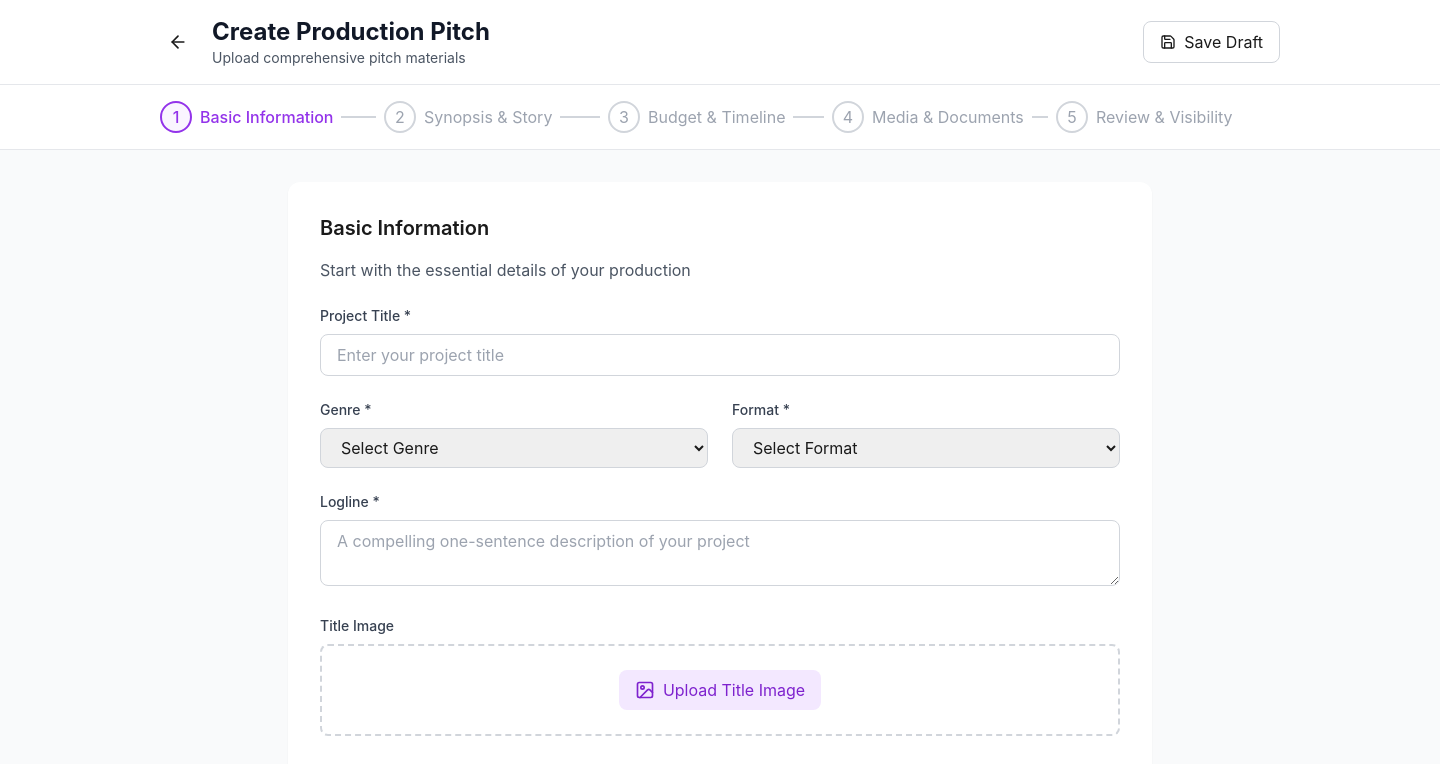
ProductionPitchCreate › Step 1: Basic Information › advances to step 2 when all Step 1 fields are filled
Type "My Great Film" into the field with placeholder "Enter your project title" at (720, 355), box x1=320 y1=334 x2=1120 y2=376
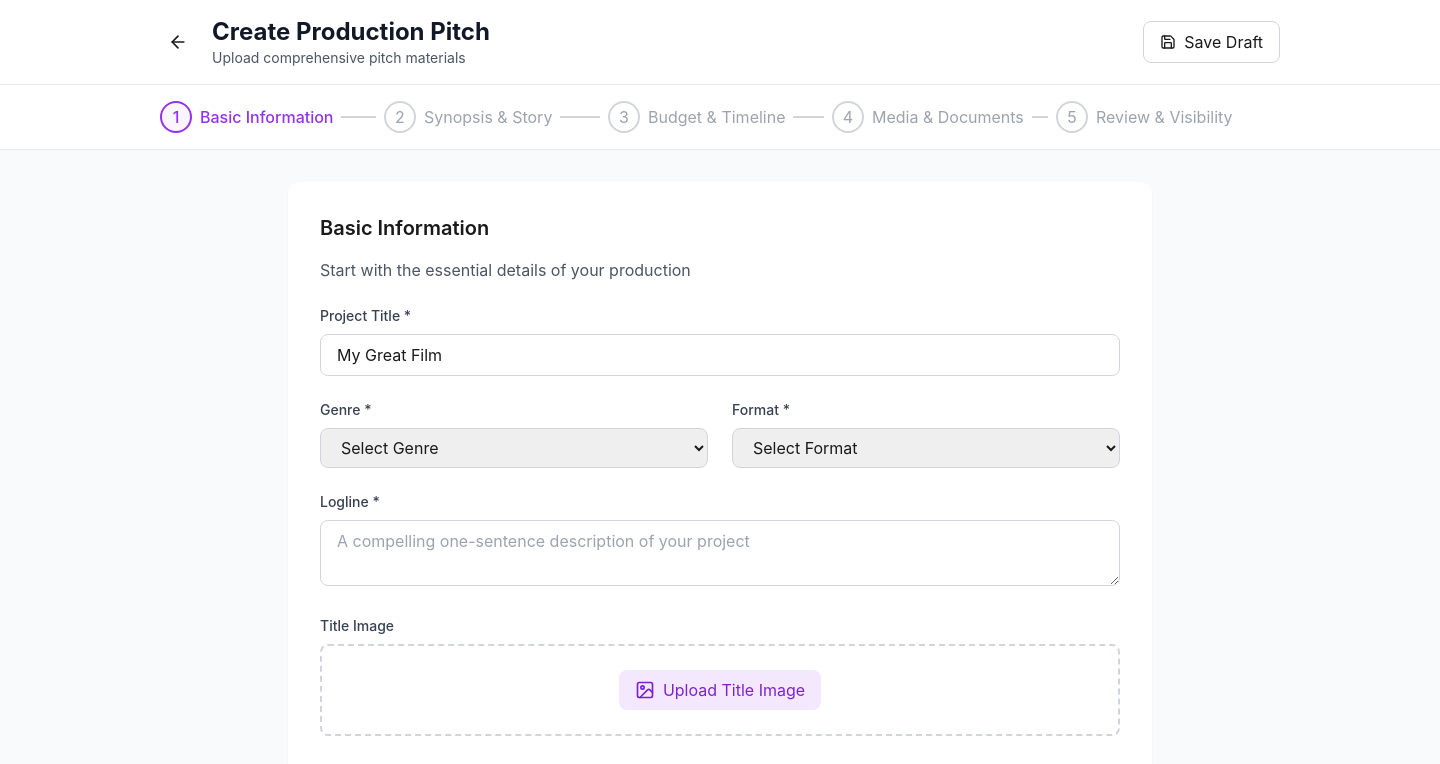
# Use querySelectorAll for selects since they share same default value
Select "Action" in the dropdown below "Genre *" at (514, 448), box x1=320 y1=428 x2=708 y2=468
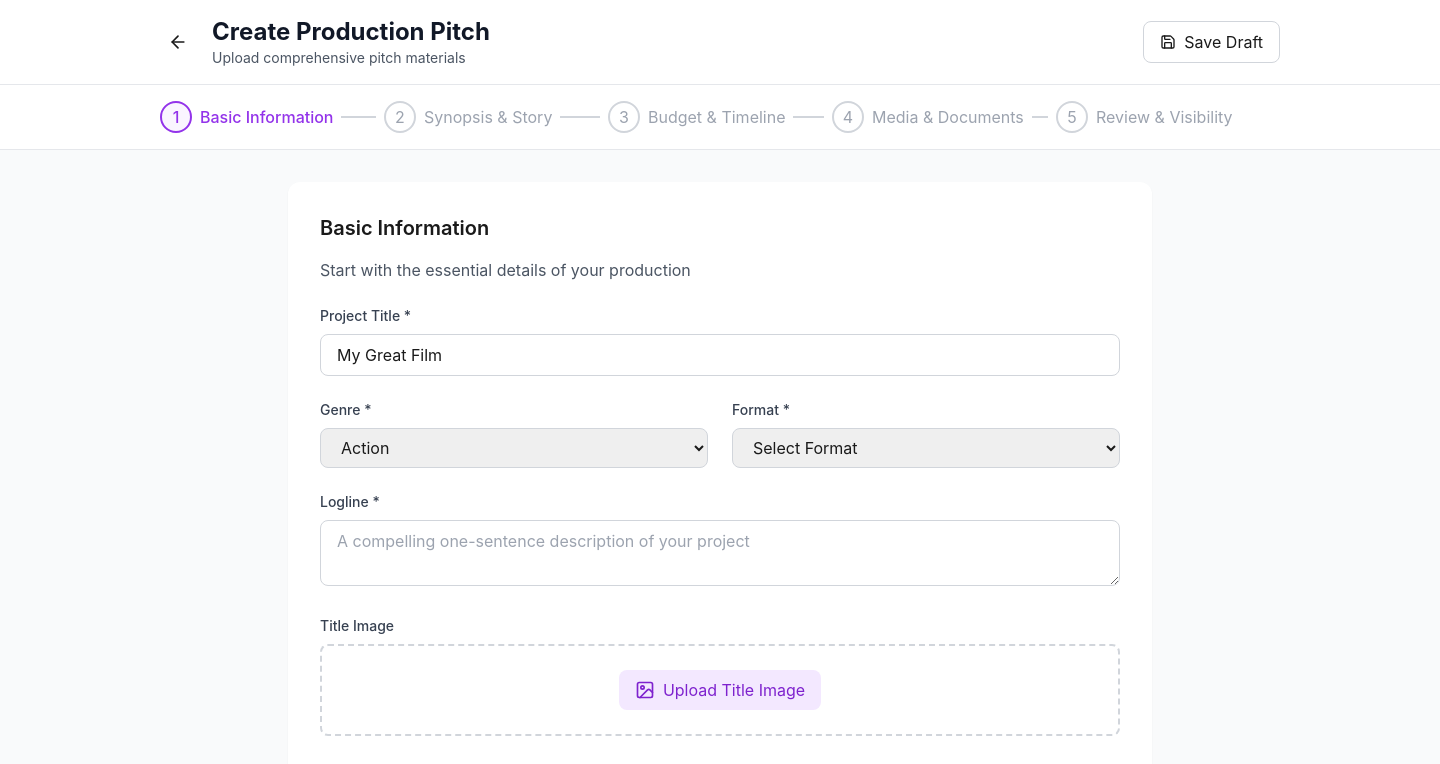
Select "Feature Film" in the dropdown below "Format *" at (926, 448), box x1=732 y1=428 x2=1120 y2=468
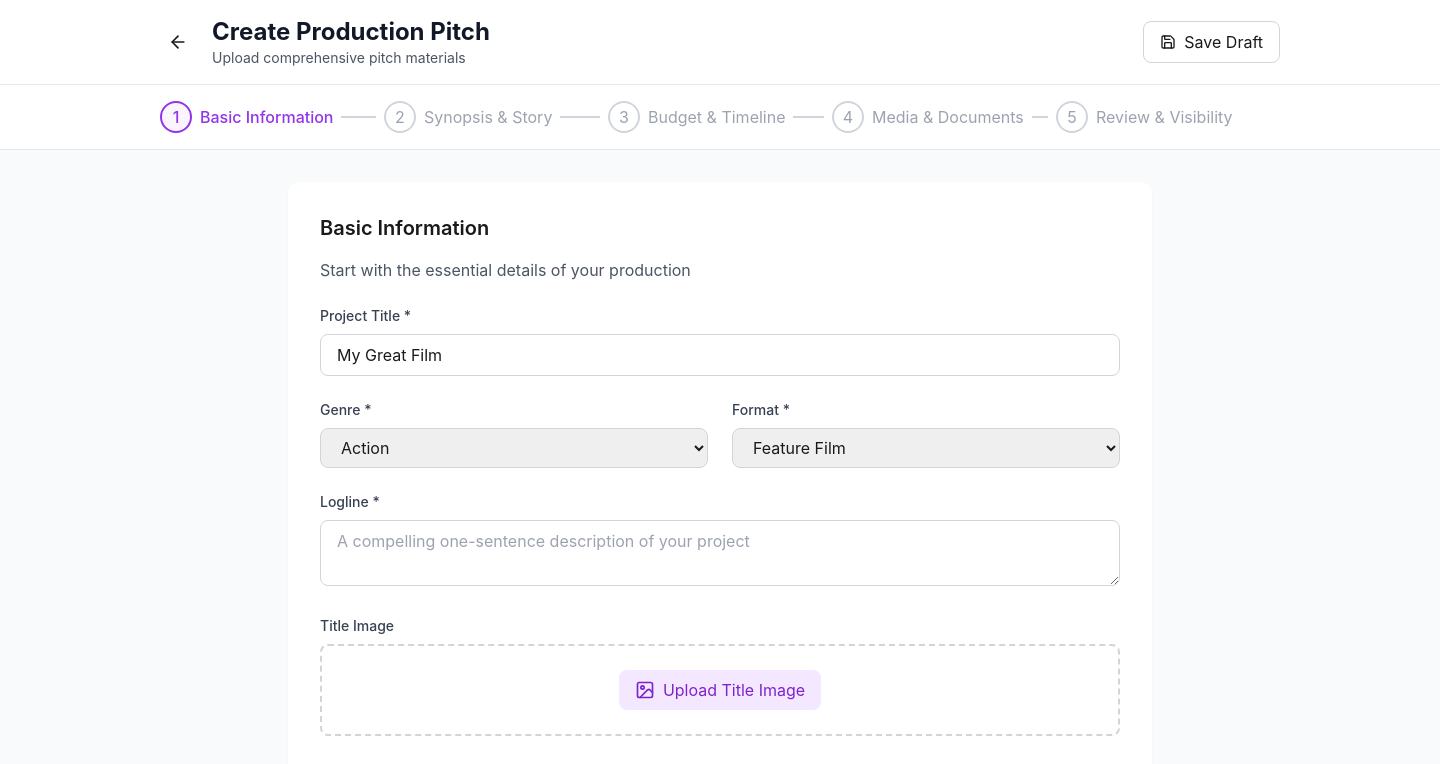
Type "A hero on a journey" into the text box with placeholder "A compelling one-sentence description of your project" at (720, 553), box x1=320 y1=520 x2=1120 y2=586
(page scrolled)
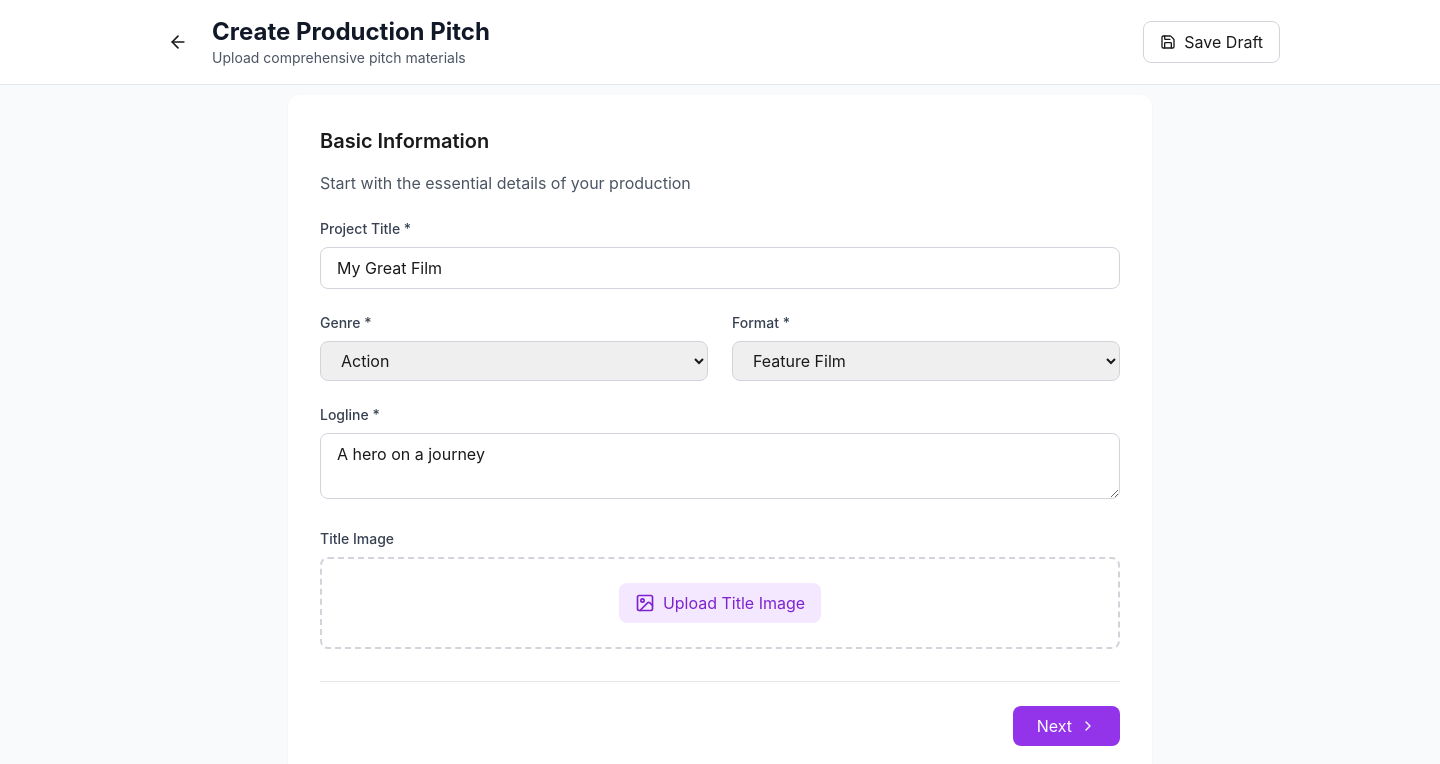
Click the button "Next" at (1066, 726), box x1=1013 y1=706 x2=1120 y2=746
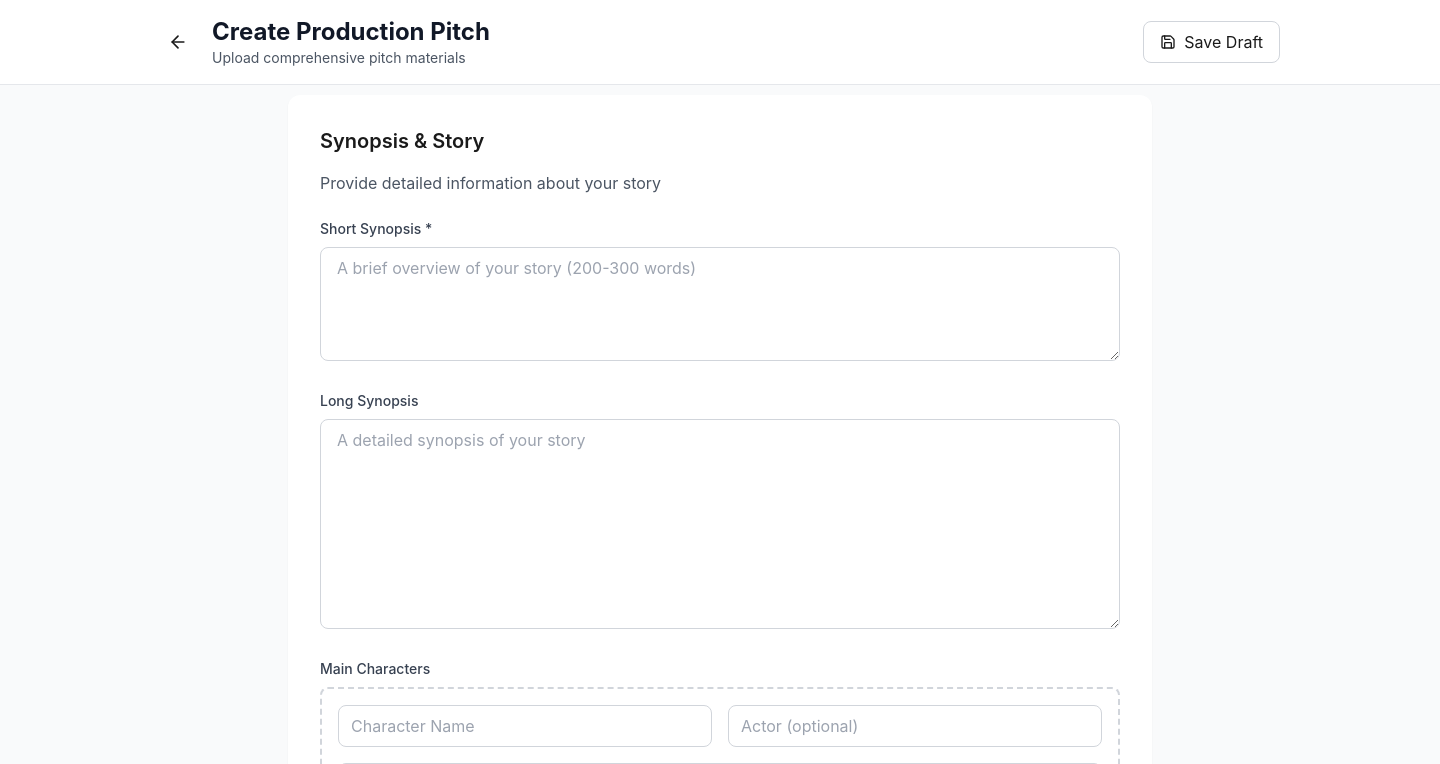
Expected: the text box with placeholder "A brief overview of your story (200-300 words)" is shown, x1=320 y1=247 x2=1120 y2=361
